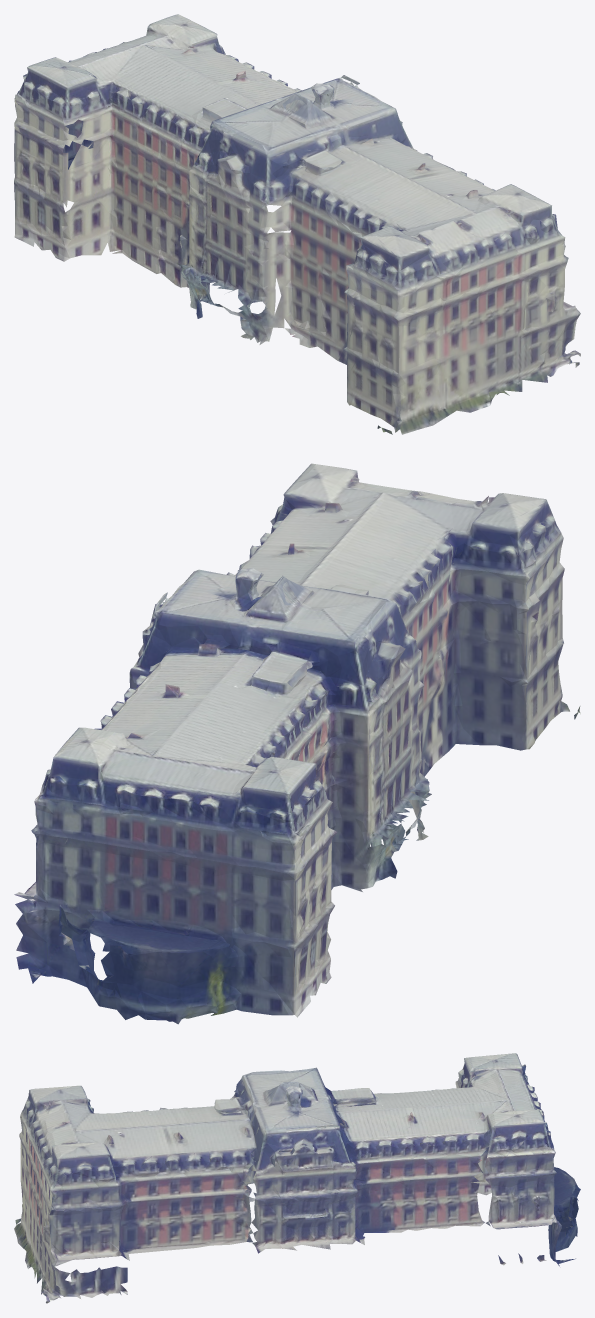
Rendered from palais-wilson.glb.
3 renders of one model, top to bottom at view 1: azimuth 30°, elevation 25°; view 2: azimuth 150°, elevation 25°; view 3: azimuth 270°, elevation 25°, orthographic. The views are drawn at different scales.
Size of the model in its own units: 44.92 by 31.45 by 89.13.
Materials: 2 (2 with a texture image).
